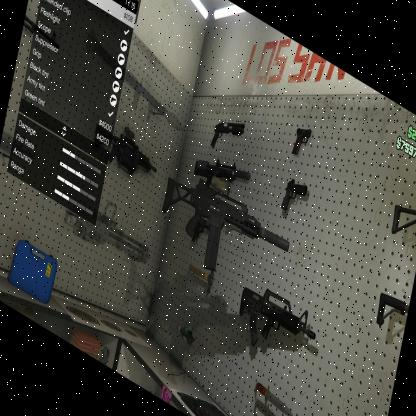rifle: (148, 148, 302, 308)
